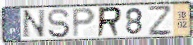8: (125, 7, 144, 36)
N: (21, 8, 47, 40)
P: (71, 7, 97, 39)
R: (96, 6, 124, 39)
S: (47, 8, 72, 39)
Z: (147, 5, 174, 37)
